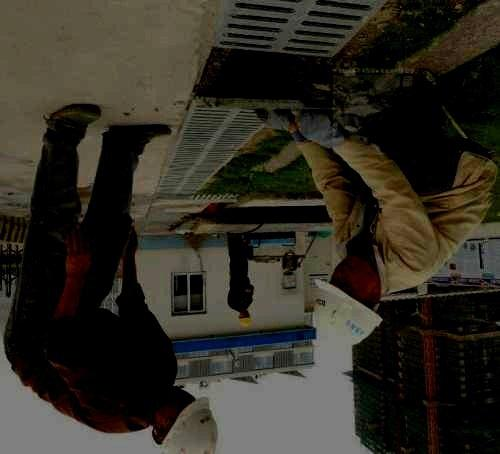helmet: (314, 245, 383, 347), (151, 387, 219, 454), (238, 309, 251, 328)
